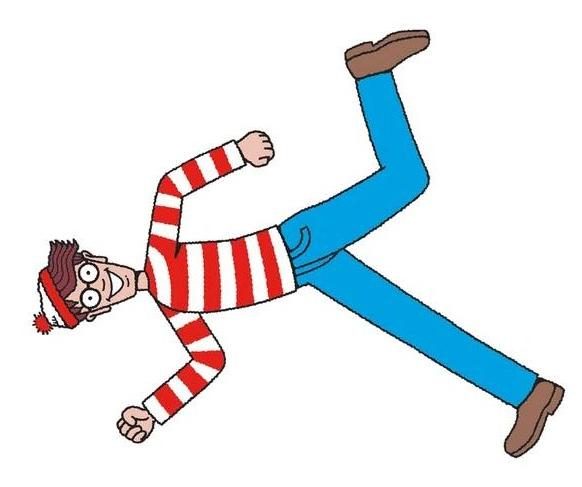waldos: (33, 28, 565, 461)
